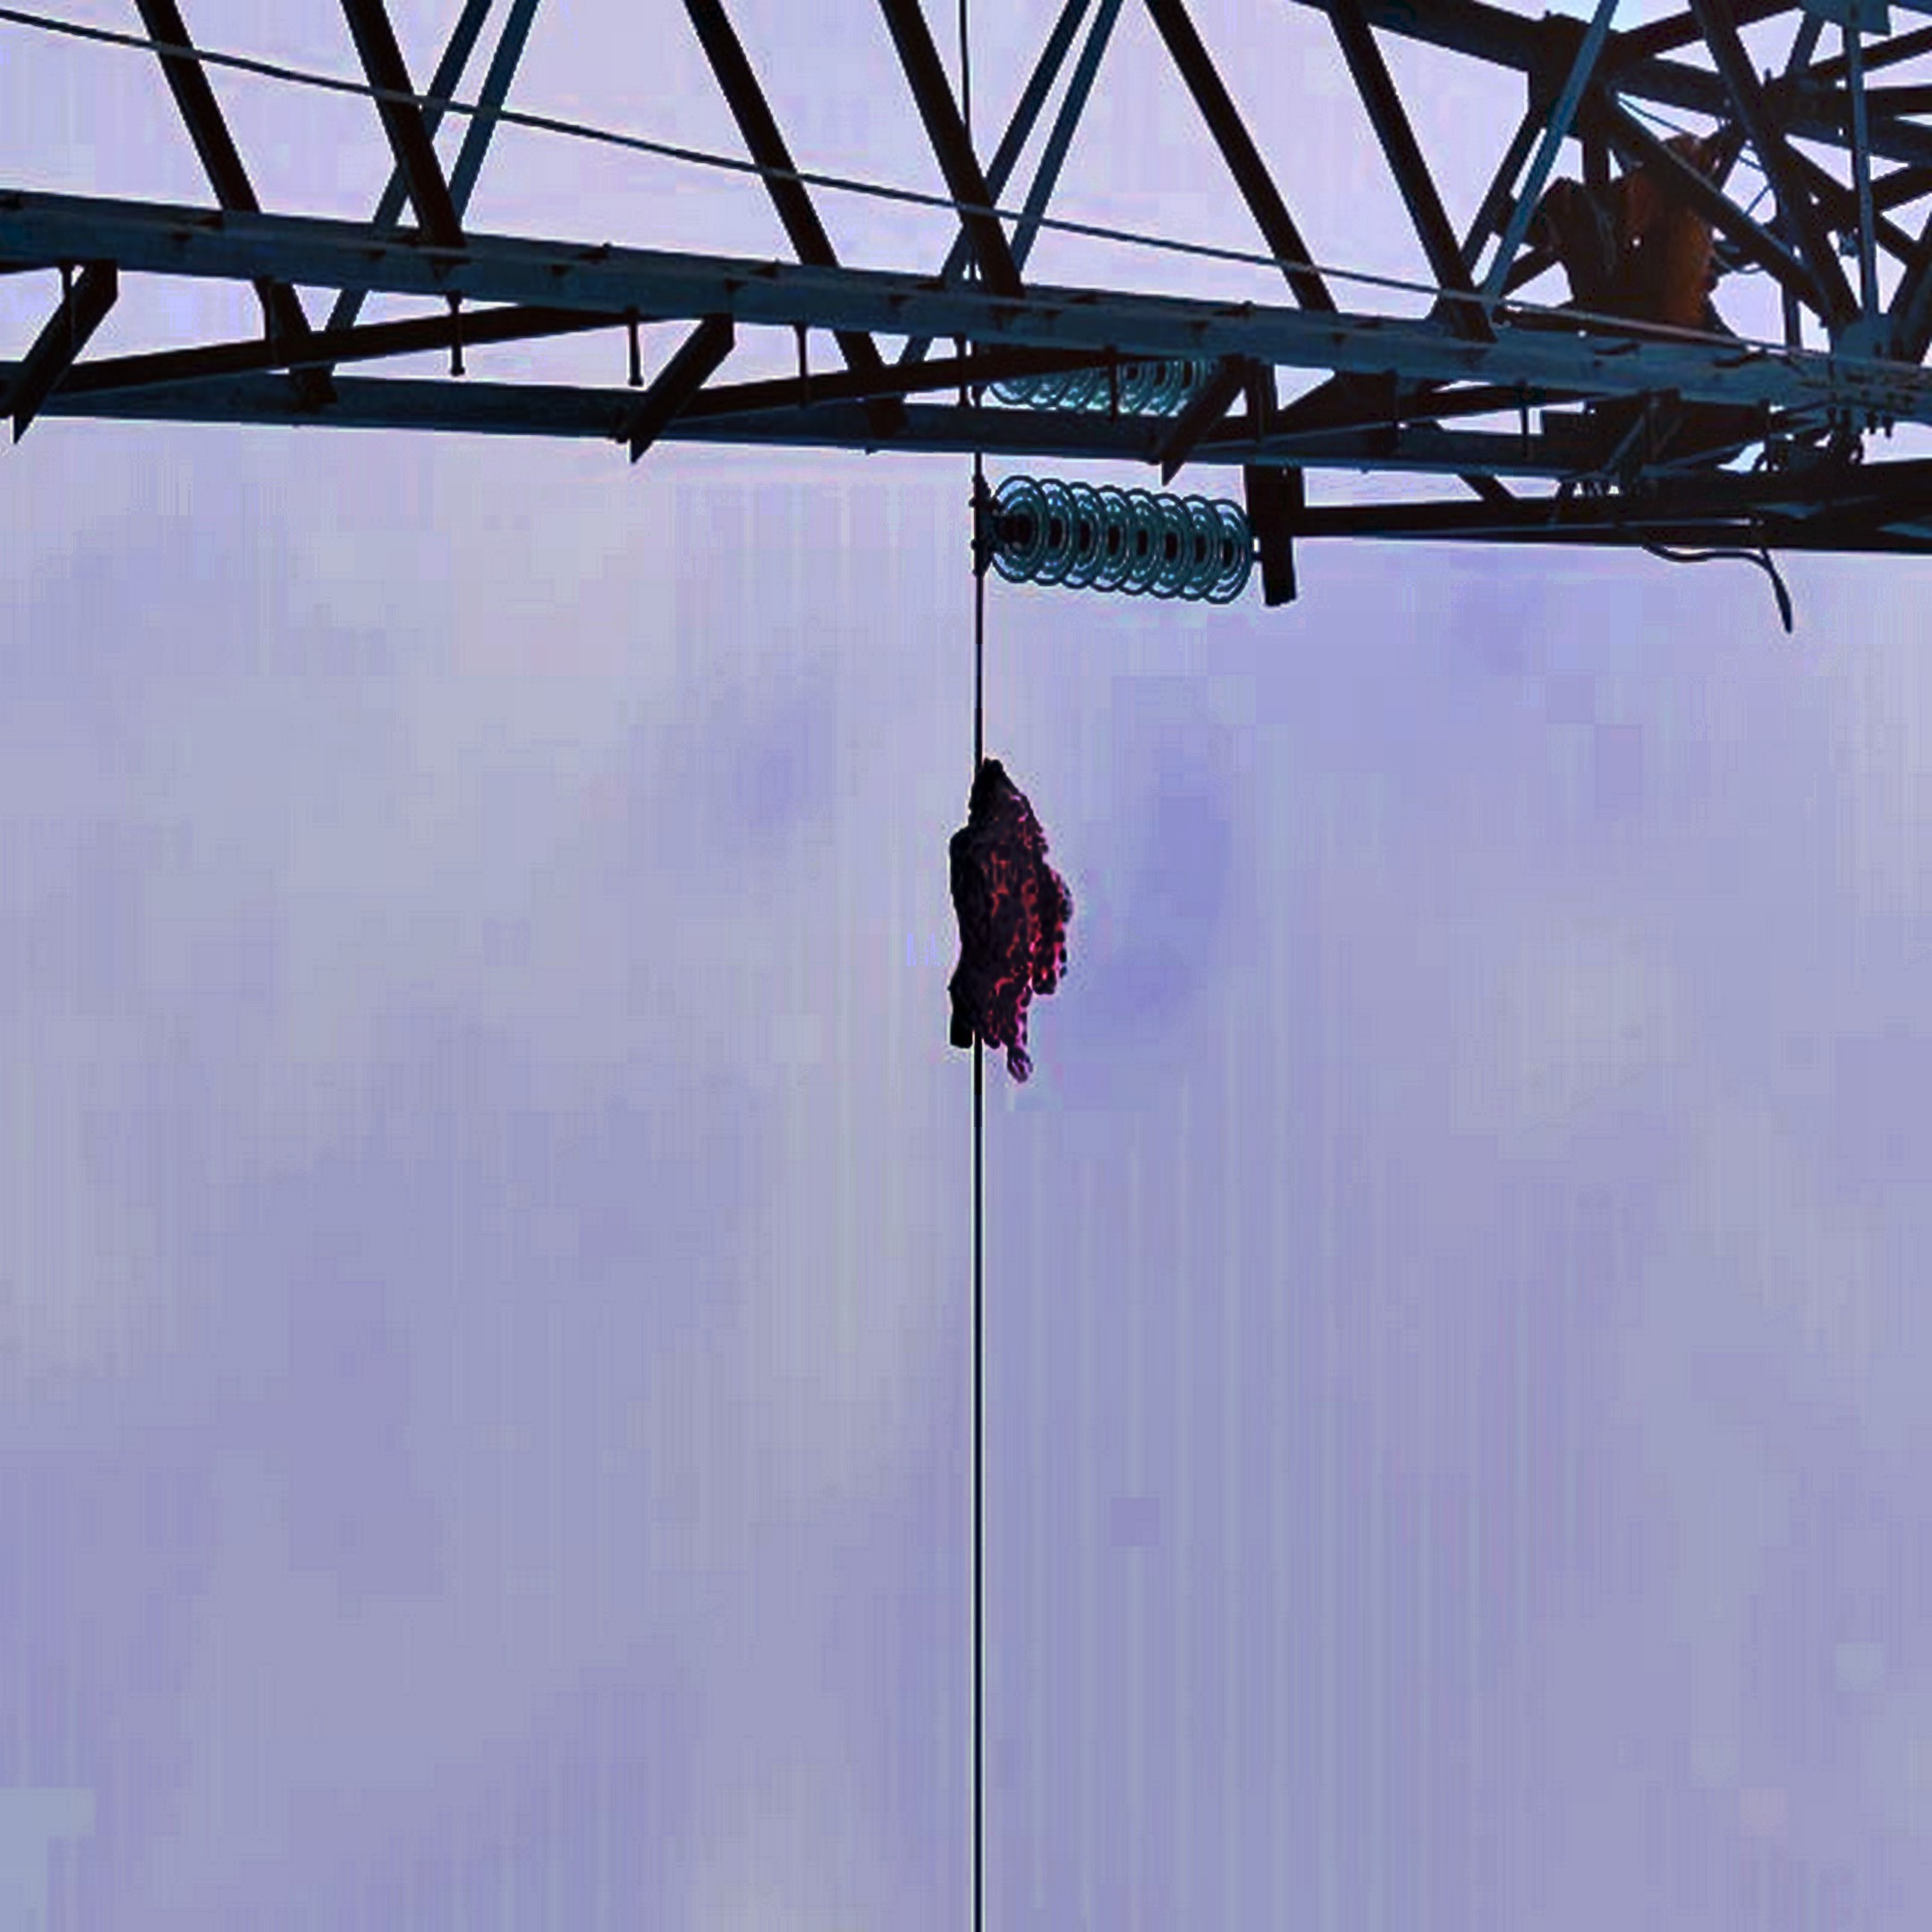wire foreign body: (925, 754, 1146, 1104)
